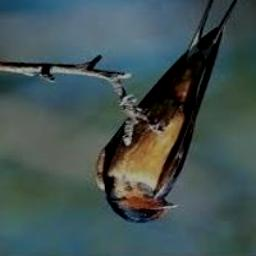Swallow: (95, 0, 243, 224)
